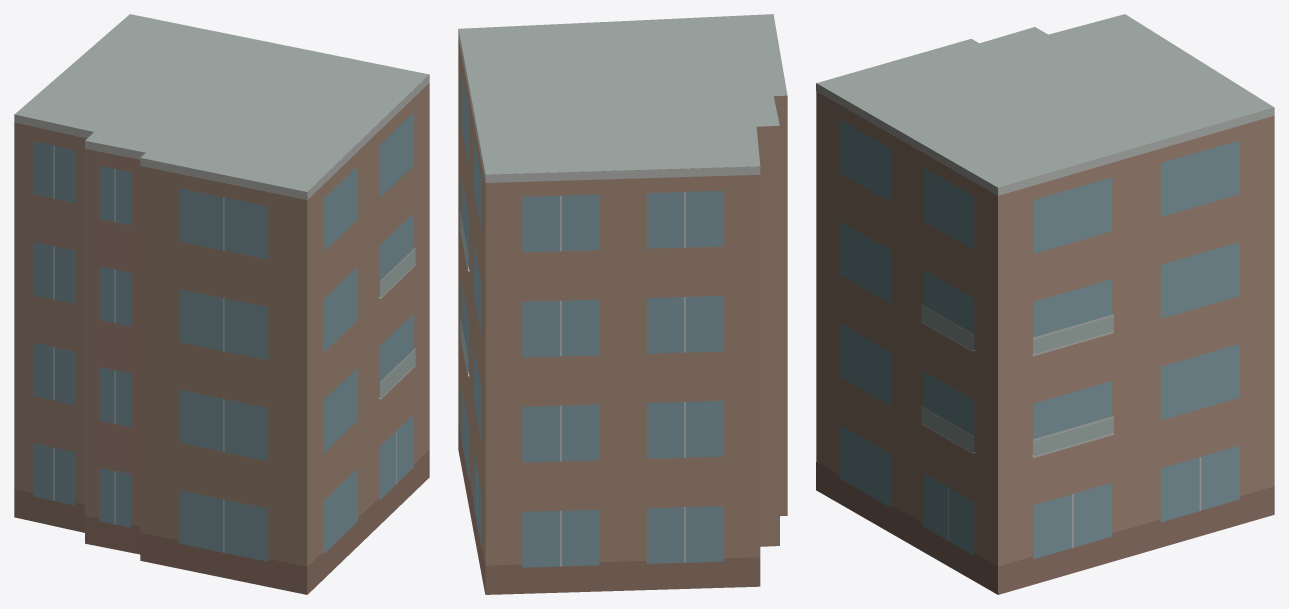
The model's file is survey-upis-32775523.glb.
3 views of the same model, side by side, from view 1: azimuth 30°, elevation 25°; view 2: azimuth 150°, elevation 25°; view 3: azimuth 270°, elevation 25° (orthographic). The views are drawn at different scales.
Visible parts, largest first — view 1: survey-upis-32775523.tmp; view 2: survey-upis-32775523.tmp; view 3: survey-upis-32775523.tmp.
Part boxes in pixels (left/top/right/bottom): survey-upis-32775523.tmp: left=14, top=14, right=429, bottom=594; survey-upis-32775523.tmp: left=458, top=14, right=787, bottom=594; survey-upis-32775523.tmp: left=816, top=14, right=1274, bottom=594.
Bounding box in the file's own units: 11.17 × 12.2 × 12.46.
